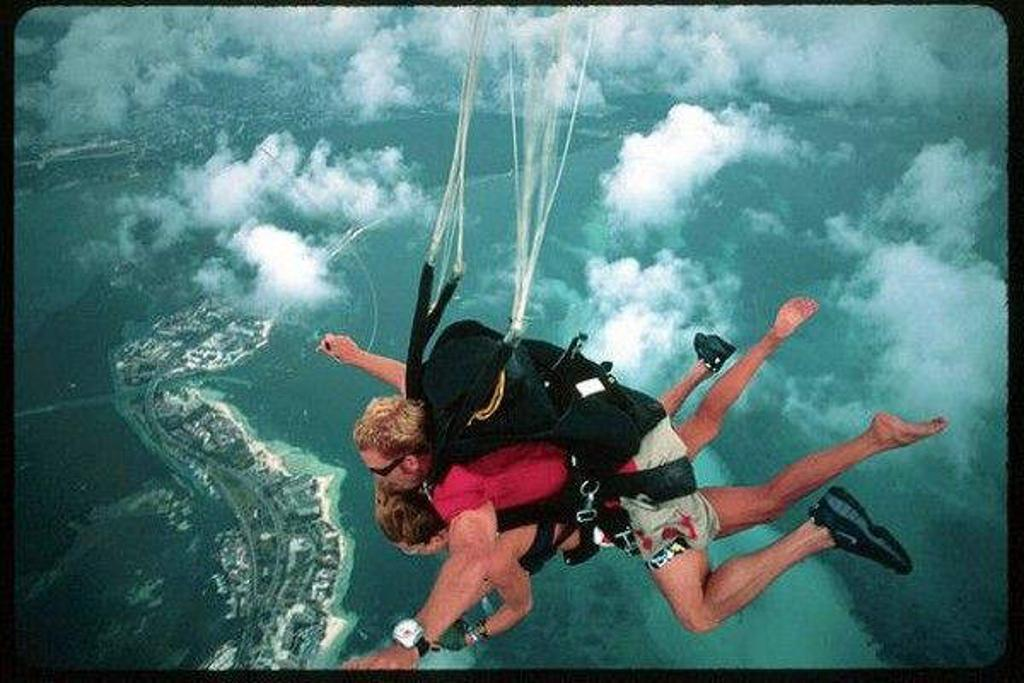face: (359, 447, 413, 495)
